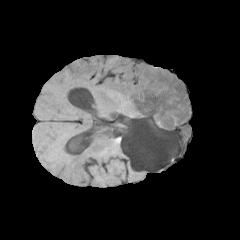glioma: (103, 65, 189, 153)
